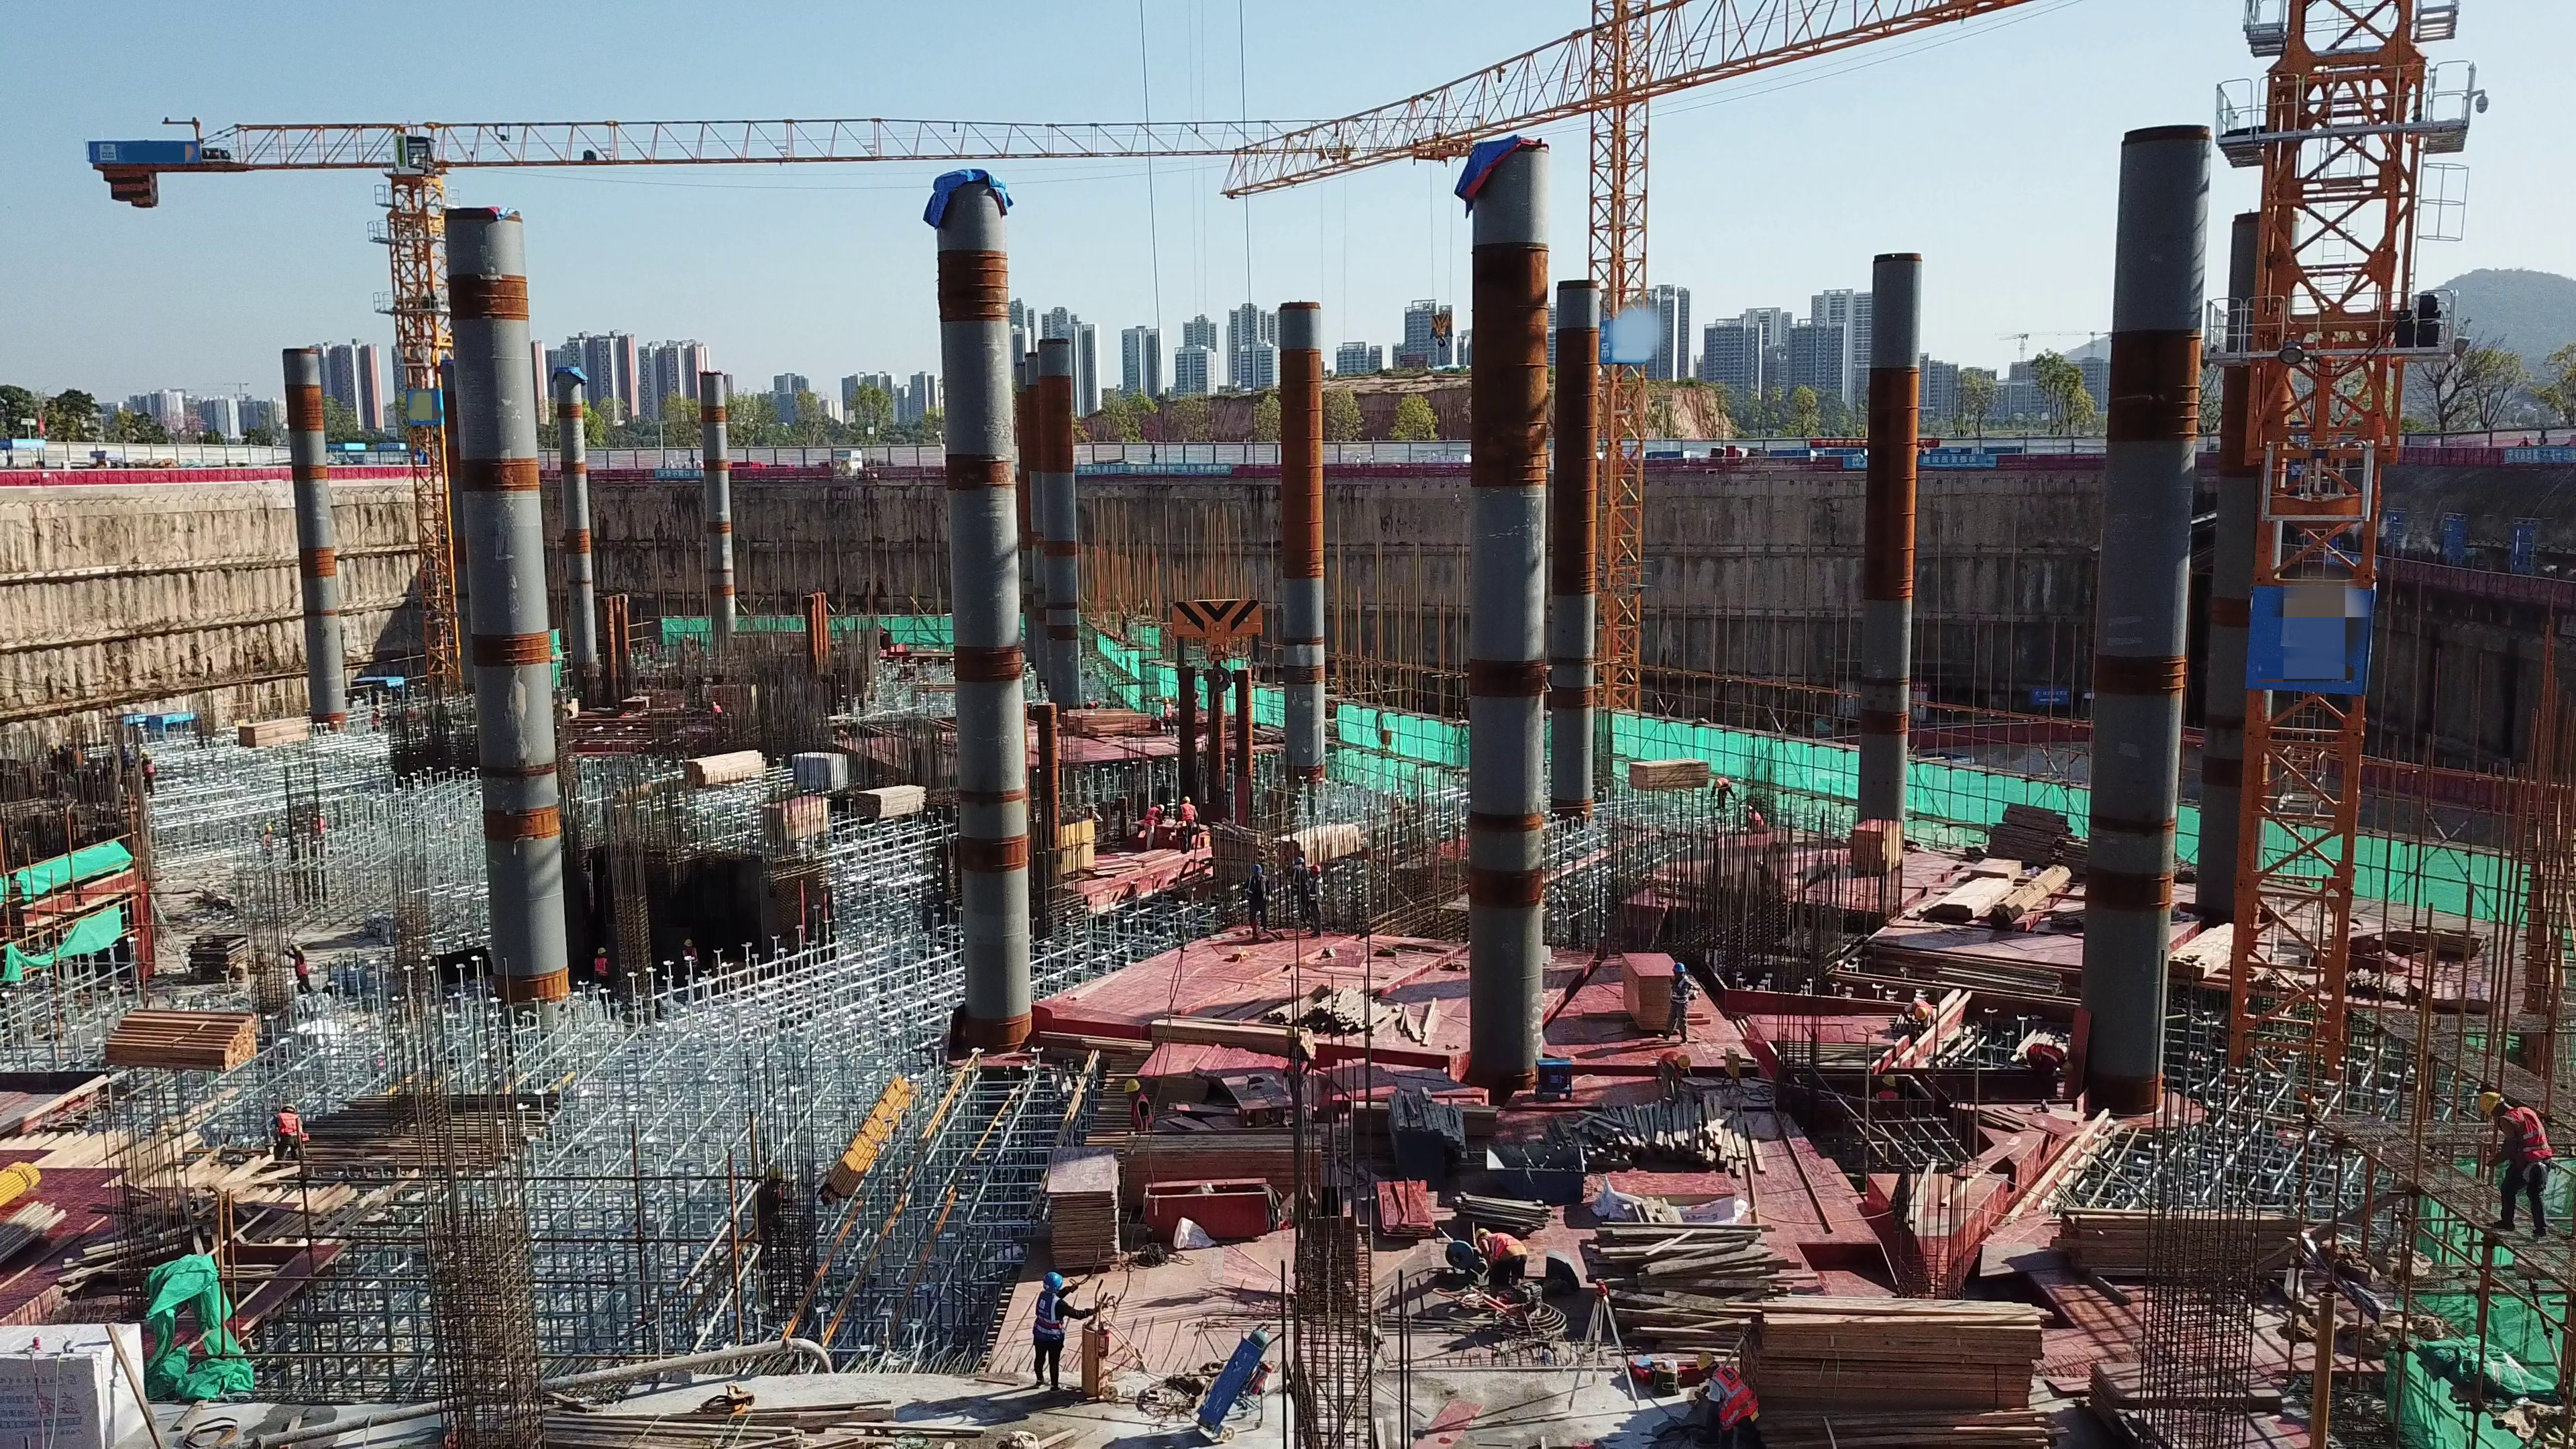helmet: (2480, 1092, 2504, 1115), (1041, 1269, 1060, 1288), (1676, 1055, 1691, 1071), (1914, 1007, 1929, 1021), (1250, 863, 1263, 876), (290, 942, 304, 953), (1309, 863, 1322, 873), (595, 945, 608, 954), (682, 938, 694, 948), (1671, 963, 1685, 972), (1181, 794, 1191, 804)
person: (2471, 1082, 2553, 1243), (1020, 1269, 1075, 1394), (1697, 1350, 1758, 1445), (1477, 1228, 1534, 1293), (2023, 1040, 2074, 1100), (1664, 961, 1695, 1049), (1649, 1051, 1687, 1110), (266, 1104, 302, 1164), (1301, 865, 1328, 942), (1244, 862, 1269, 946), (283, 943, 315, 998), (1178, 796, 1202, 857), (1285, 858, 1305, 921), (1140, 800, 1164, 848), (1903, 998, 1932, 1036), (677, 938, 701, 981), (1161, 696, 1175, 739), (592, 946, 608, 985), (711, 702, 722, 723)
vest: (2504, 1108, 2549, 1167), (1481, 1228, 1534, 1268), (1032, 1292, 1065, 1342), (2026, 1042, 2061, 1069), (276, 1110, 302, 1143), (1652, 1049, 1681, 1076), (1668, 977, 1694, 1007), (1246, 877, 1267, 901), (1308, 878, 1325, 903), (1141, 806, 1159, 830), (292, 955, 309, 978), (1177, 804, 1195, 823), (592, 957, 608, 976)
